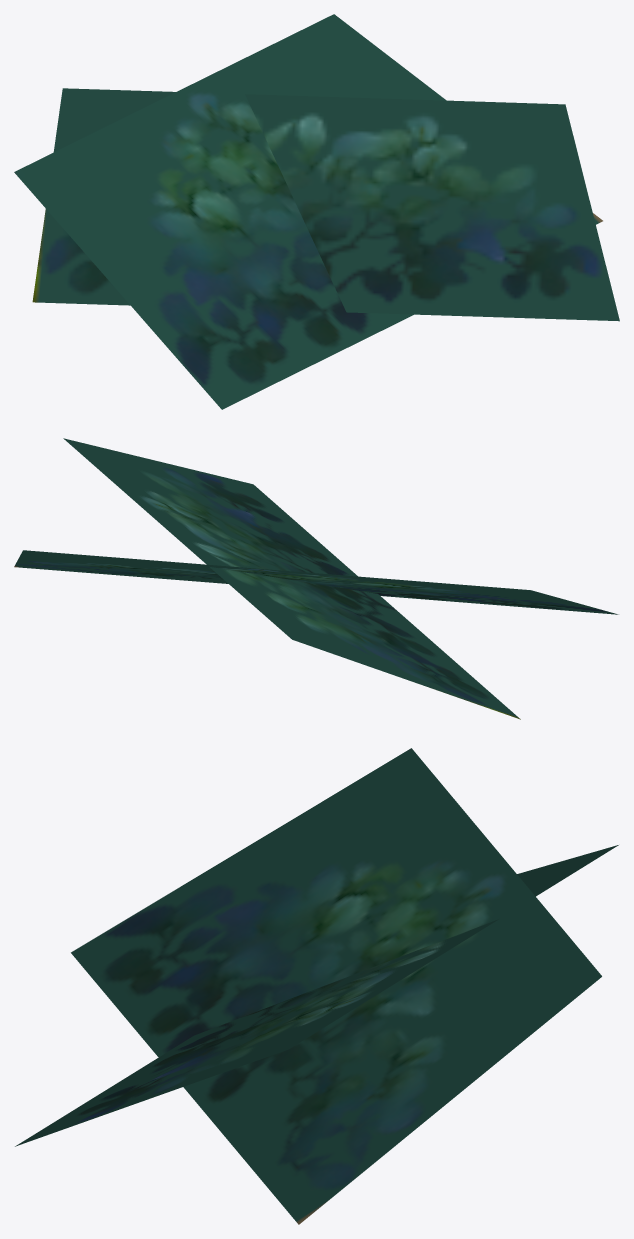
The model's file is FB_1_tree03.FBX.
3 views of the same model, one above another, from view 1: azimuth 30°, elevation 25°; view 2: azimuth 150°, elevation 25°; view 3: azimuth 270°, elevation 25° (orthographic). The views are drawn at different scales.
Visible parts, largest first — view 1: FB_1_tree03_1, FB_1_tree03_2; view 2: FB_1_tree03_1, FB_1_tree03_2; view 3: FB_1_tree03_2, FB_1_tree03_1.
Boxes of the visible parts, x1,y1,x2,y2 form: FB_1_tree03_1: (32, 88, 619, 321); FB_1_tree03_2: (14, 14, 602, 409); FB_1_tree03_1: (63, 438, 520, 719); FB_1_tree03_2: (14, 550, 618, 614); FB_1_tree03_2: (71, 748, 601, 1224); FB_1_tree03_1: (15, 845, 618, 1146).
Bounding box in the file's own units: 117 × 30.01 × 97.14.
1 material, 1 textured.
